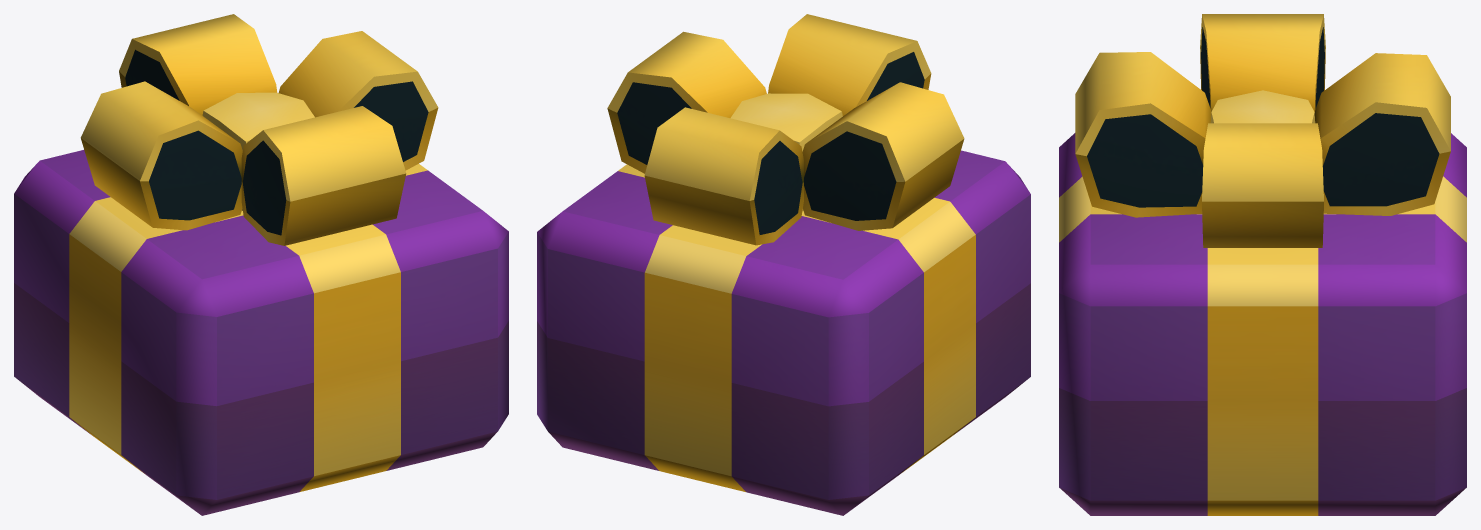
Rendered from presi_square_5_purple.fbx.
3 renders of one model, left to right at view 1: azimuth 30°, elevation 25°; view 2: azimuth 150°, elevation 25°; view 3: azimuth 270°, elevation 25°, orthographic. The views are drawn at different scales.
Visible parts, largest first — view 1: presi_square_5_purple; view 2: presi_square_5_purple; view 3: presi_square_5_purple.
Part boxes in pixels (x1,y1,x2,y2): presi_square_5_purple: [14, 14, 508, 515]; presi_square_5_purple: [537, 14, 1030, 515]; presi_square_5_purple: [1059, 14, 1466, 515].
Size of the model in its own units: 75 by 74 by 75.
Materials: 1 (1 with a texture image).
